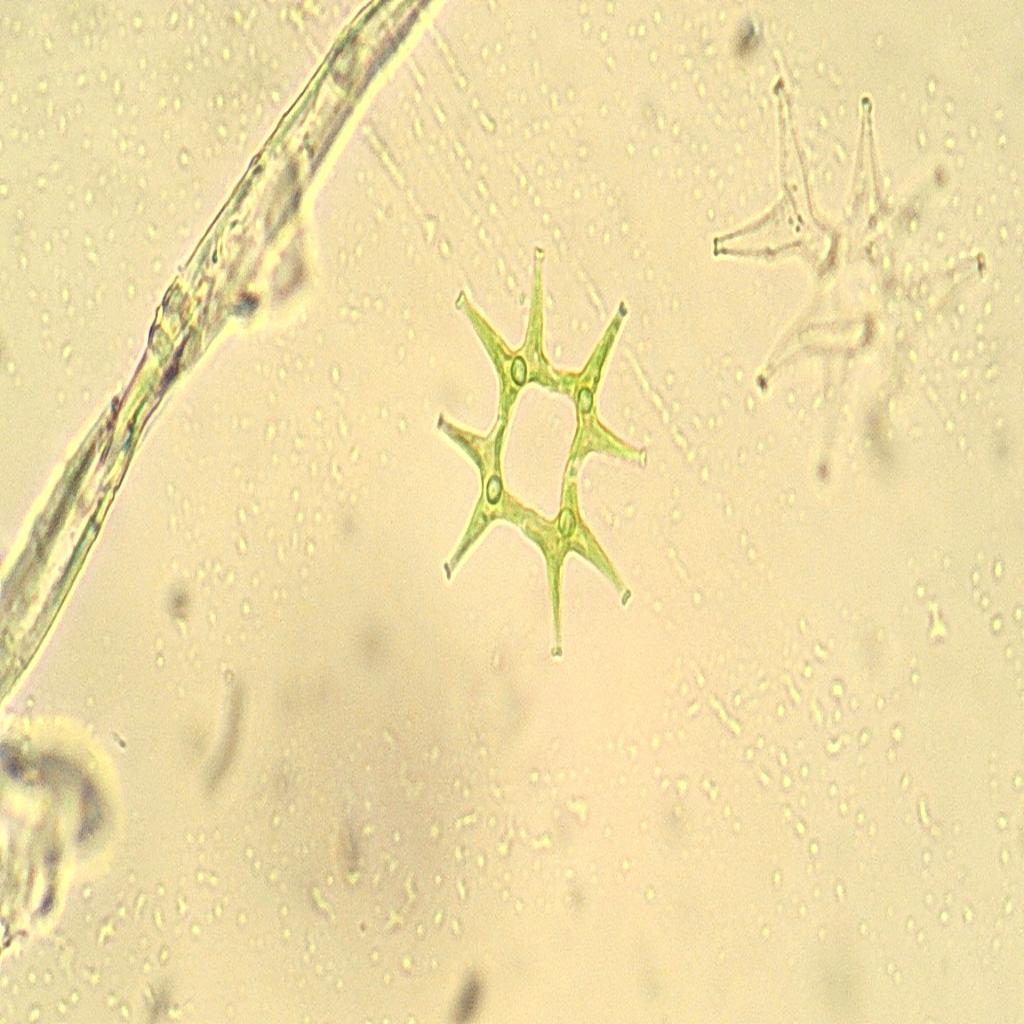Pediastrum_CO: (423, 232, 671, 678)
